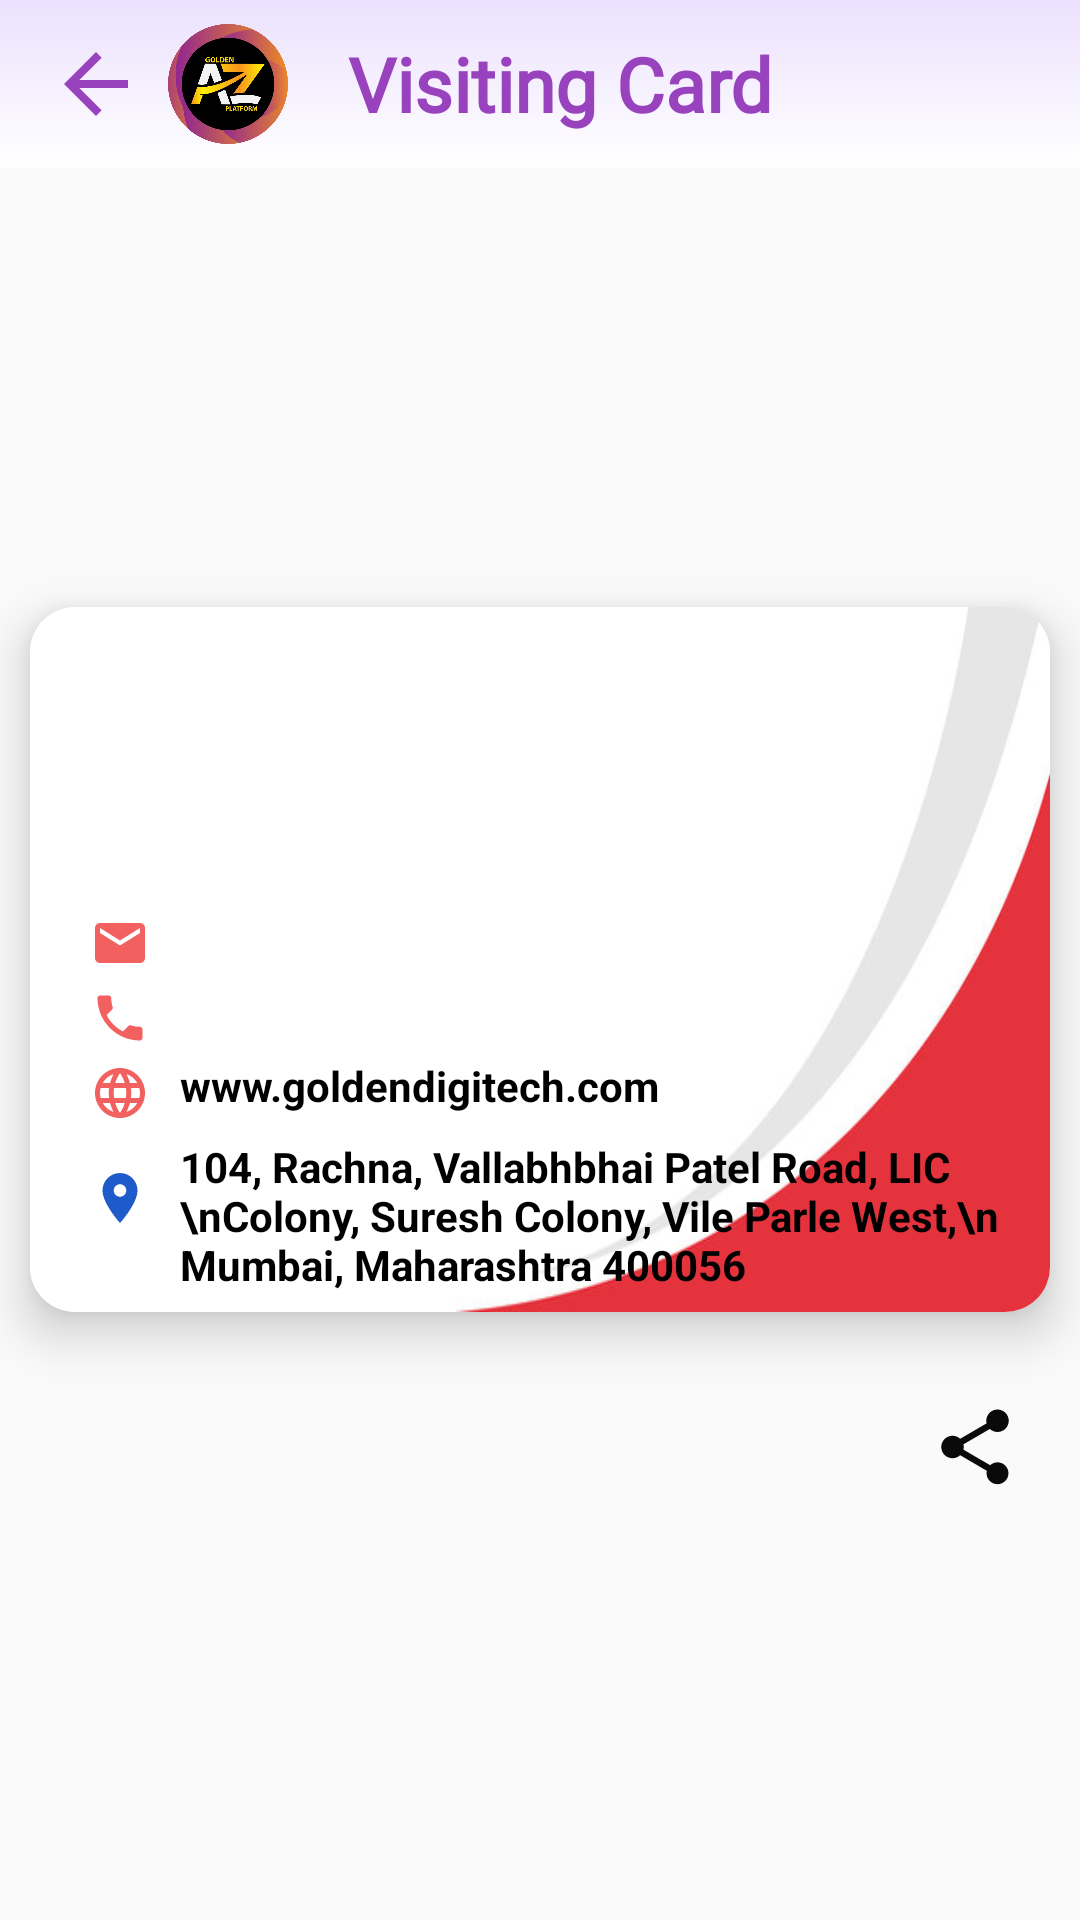

Named icons in this screenshot (1080px×1920px) and their bounding boxes, box=[x1, y1, x2, y2]:
arrow back: box=[64, 52, 128, 116]
email: box=[95, 923, 145, 963]
language: box=[95, 1068, 145, 1118]
local phone: box=[97, 995, 143, 1041]
location on: box=[102, 1173, 138, 1223]
share: box=[941, 1409, 1009, 1485]
